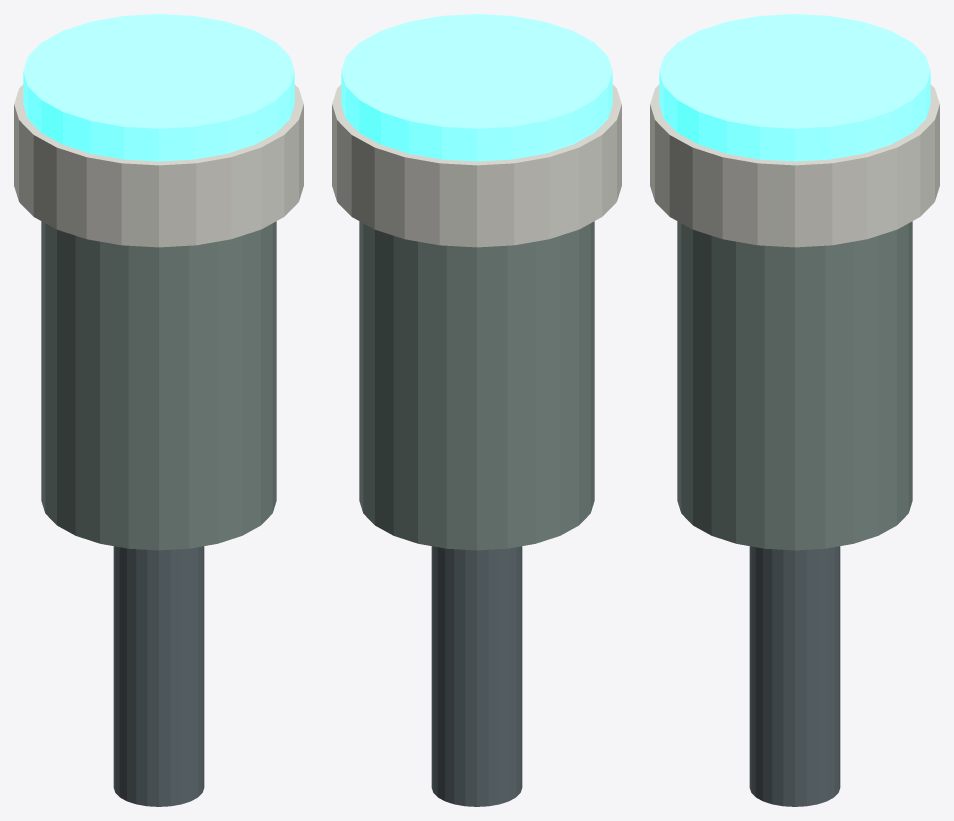
Rendered from s7-i05-dripper-stake.glb.
The picture shows the model from 3 angles, left to right: view 1: azimuth 30°, elevation 25°; view 2: azimuth 150°, elevation 25°; view 3: azimuth 270°, elevation 25°; orthographic projection.
Visible parts, largest first — view 1: 000_dripper_body, 002_flow_cap, 001_upper_dripper_collar, 003_soil_stake; view 2: 000_dripper_body, 002_flow_cap, 001_upper_dripper_collar, 003_soil_stake; view 3: 000_dripper_body, 002_flow_cap, 001_upper_dripper_collar, 003_soil_stake.
Part boxes in pixels (<box>): 000_dripper_body: <box>41,221,276,550</box>; 002_flow_cap: <box>23,14,294,161</box>; 001_upper_dripper_collar: <box>14,84,303,247</box>; 003_soil_stake: <box>113,546,204,806</box>; 000_dripper_body: <box>359,221,594,550</box>; 002_flow_cap: <box>341,14,612,161</box>; 001_upper_dripper_collar: <box>332,84,621,247</box>; 003_soil_stake: <box>431,546,522,806</box>; 000_dripper_body: <box>677,221,912,550</box>; 002_flow_cap: <box>659,14,930,161</box>; 001_upper_dripper_collar: <box>650,84,939,247</box>; 003_soil_stake: <box>749,546,840,806</box>.
Bounding box in the file's own units: 0.096 × 0.262 × 0.096.
